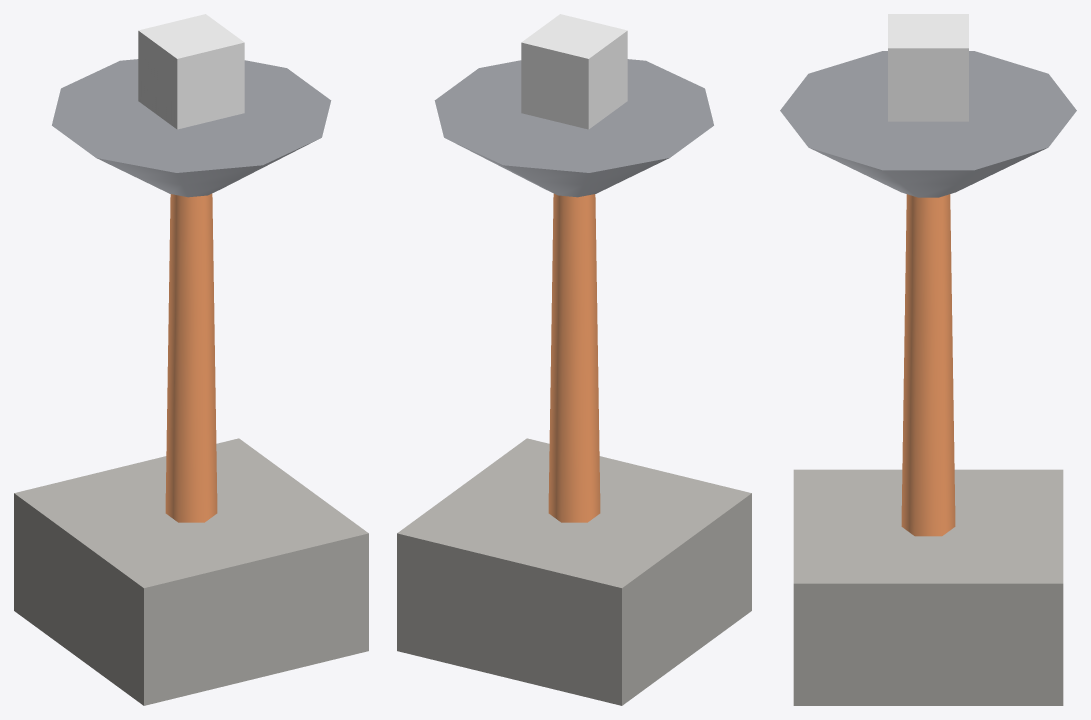
Rendered from build_receiver.glb.
3 views of the same model, side by side, from view 1: azimuth 30°, elevation 25°; view 2: azimuth 150°, elevation 25°; view 3: azimuth 270°, elevation 25° (orthographic). The views are drawn at different scales.
Visible parts, largest first — view 1: Baked, Gem; view 2: Baked, Gem; view 3: Baked, Gem.
Part boxes in pixels (x1,y1,x2,y2): Baked: (14,59,368,705); Gem: (138,14,244,129); Baked: (397,59,751,705); Gem: (521,14,627,129); Baked: (780,51,1076,705); Gem: (888,14,968,121).
Size of the model in its own units: 0.4185 by 1.01 by 0.44.
